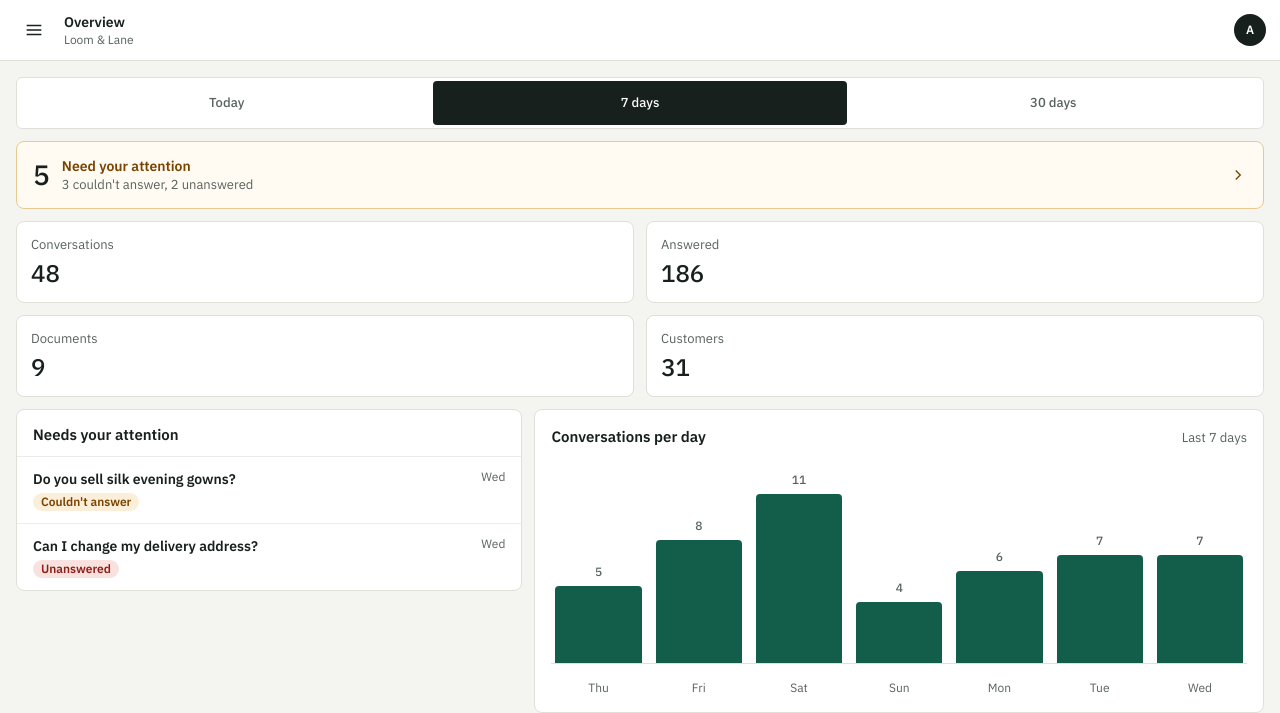
Test: on a phone › choosing a page closes the menu
Click the button named "Open menu".
click(34, 30)  # box [12, 8, 56, 52]
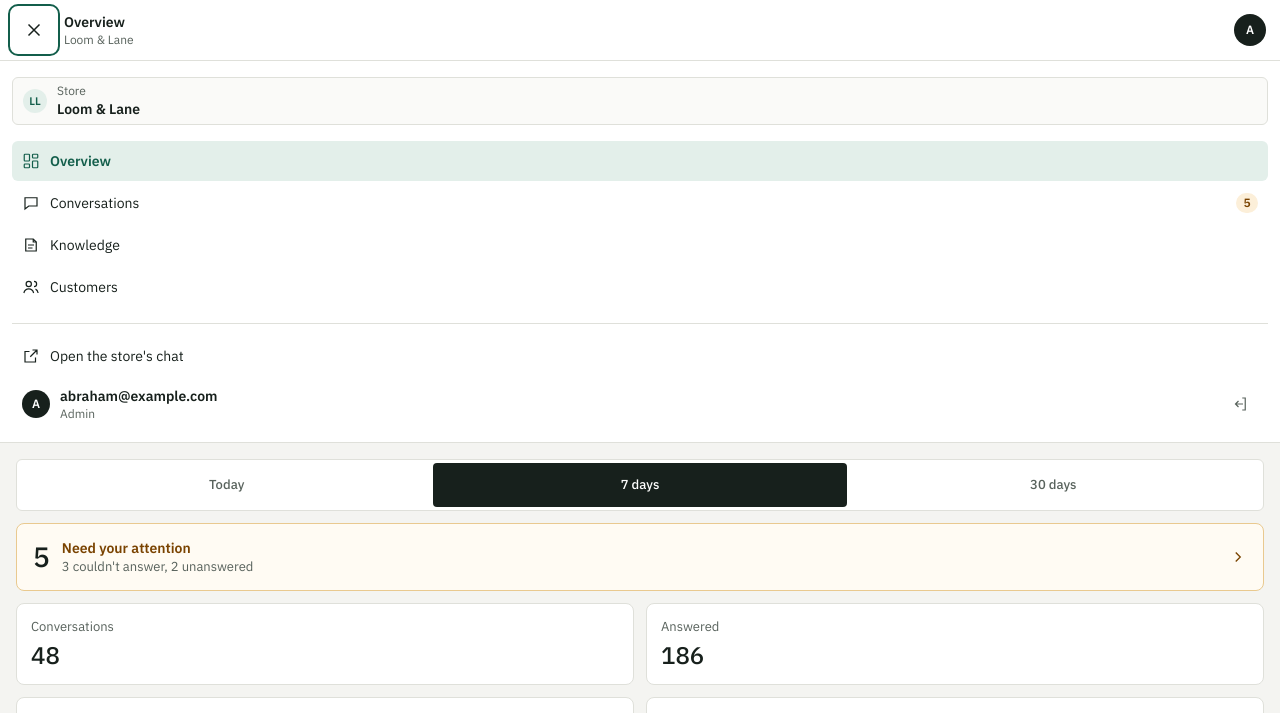
Click the link "Customers".
click(70, 287)  # box [22, 278, 118, 296]
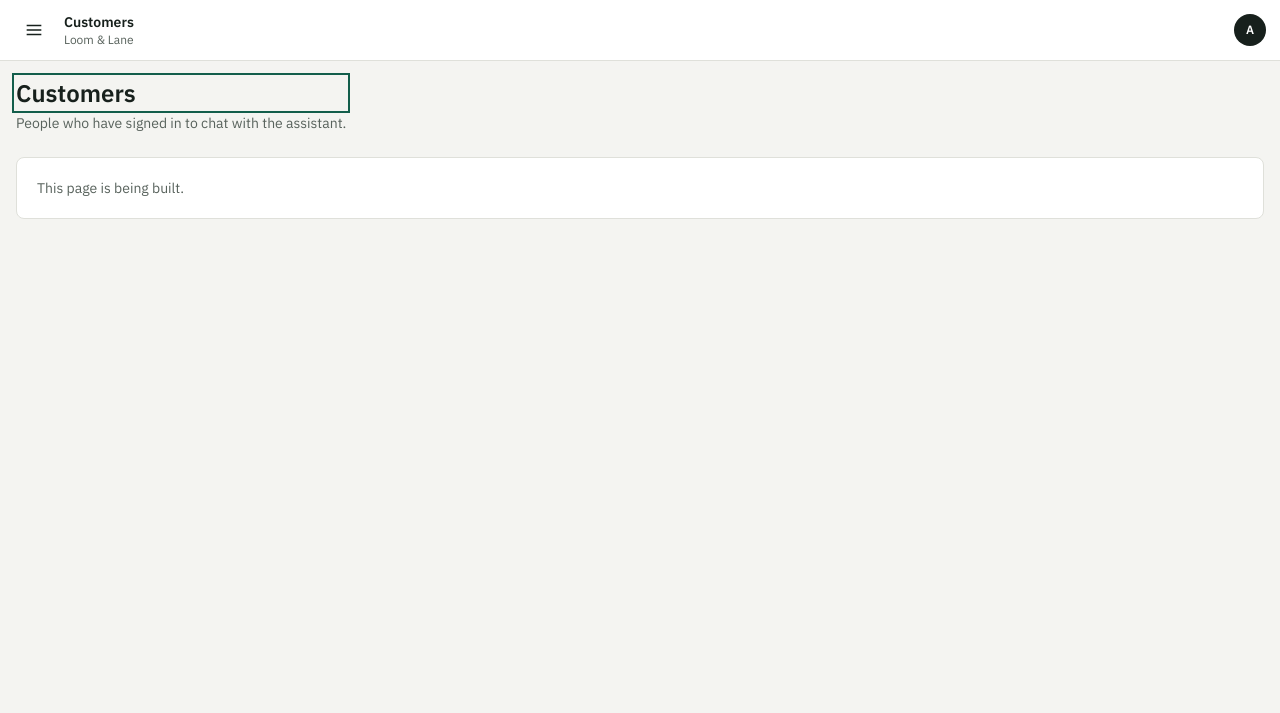
Expected: the heading "Customers" is shown, [16, 77, 136, 109]
Expected: the button named "Open menu" is collapsed, [12, 8, 56, 52]
